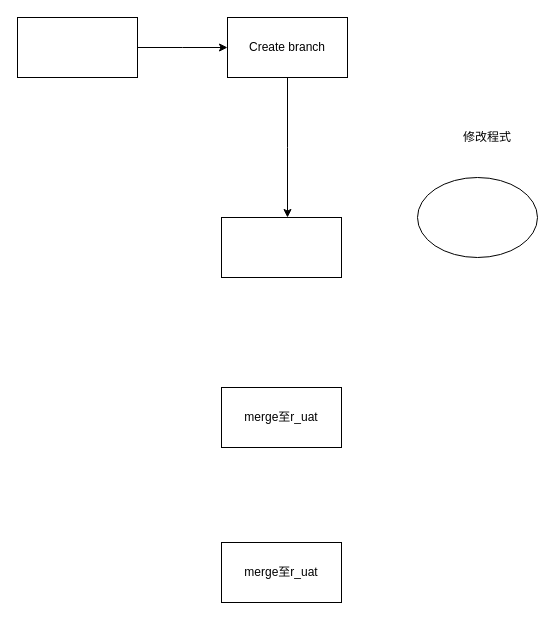
Image size: 555x620. Some labels were removed from this diagram. The centre of each missing label's shape, as x and y in pixels:
"merge至r_sit" goes at [281,247].
"pull master分支" goes at [77,47].
